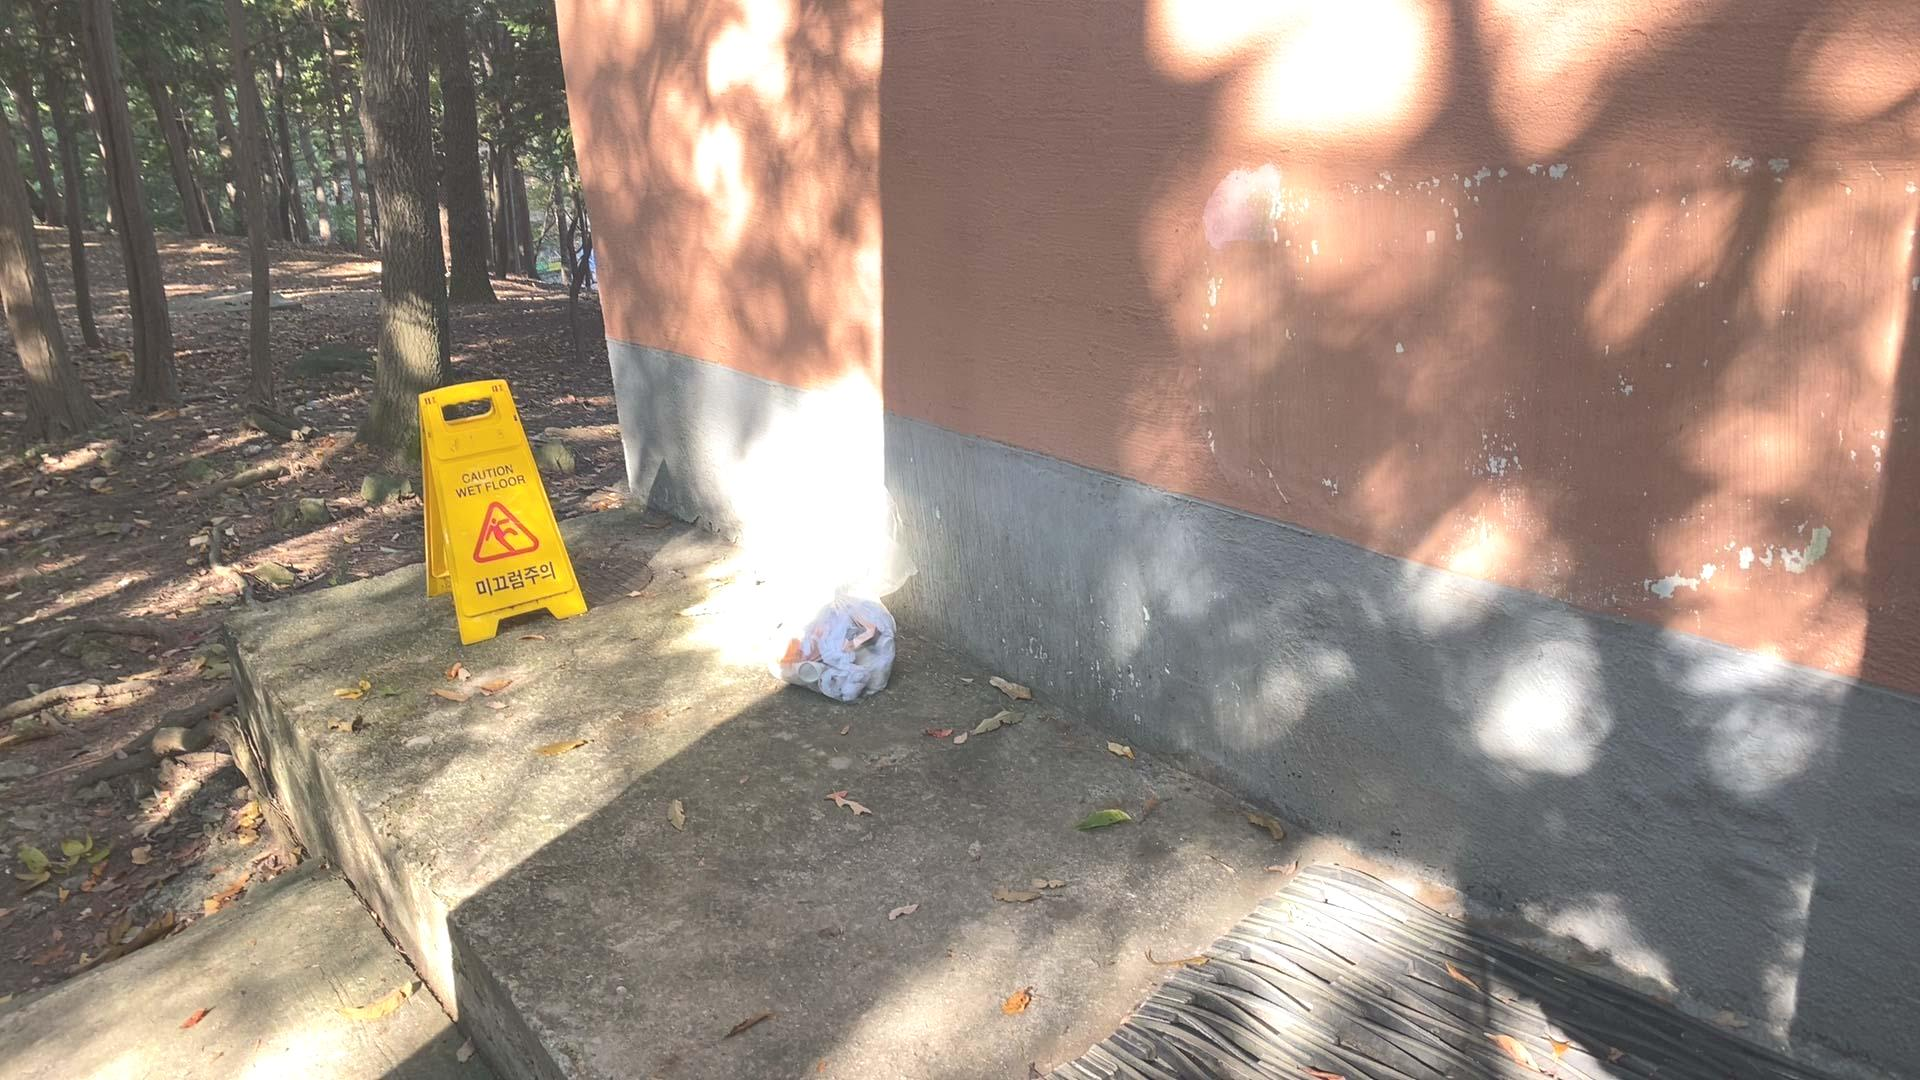white_bag: (744, 574, 913, 707)
